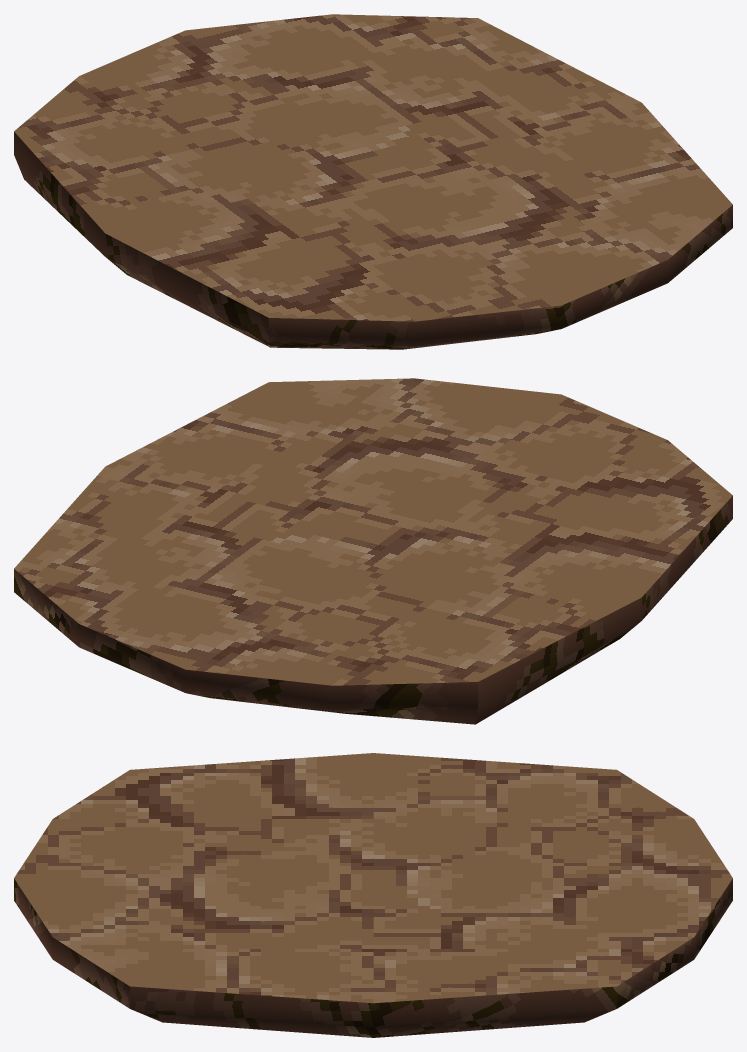
Rendered from Platform3D.fbx.
The picture shows the model from 3 angles, top to bottom: view 1: azimuth 30°, elevation 25°; view 2: azimuth 150°, elevation 25°; view 3: azimuth 270°, elevation 25°; orthographic projection. The views are drawn at different scales.
Visible parts, largest first — view 1: pasted__polySurface225; view 2: pasted__polySurface225; view 3: pasted__polySurface225.
Boxes of the visible parts, bbox=[...] form: pasted__polySurface225: bbox=[14, 14, 732, 349]; pasted__polySurface225: bbox=[14, 378, 732, 724]; pasted__polySurface225: bbox=[14, 753, 732, 1037].
Size of the model in its own units: 0.8237 by 0.1312 by 1.
